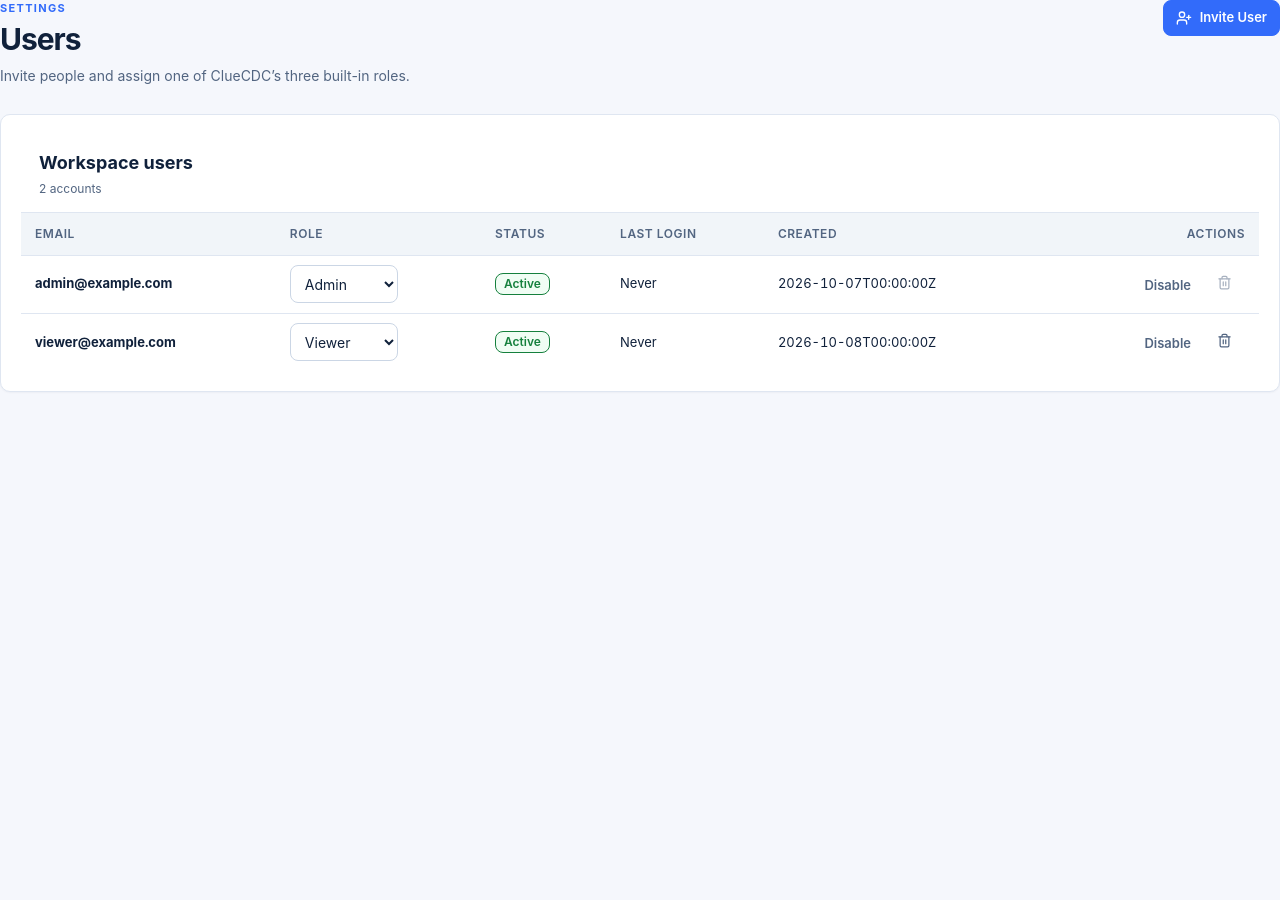
Test: lists users and creates a copyable invite link
The width and height of the screenshot is (1280, 900).
Expected: the text "admin@example.com" is shown, [35,275,172,291]
Click the button "Invite User": (1221, 18) [1163,0,1279,36]
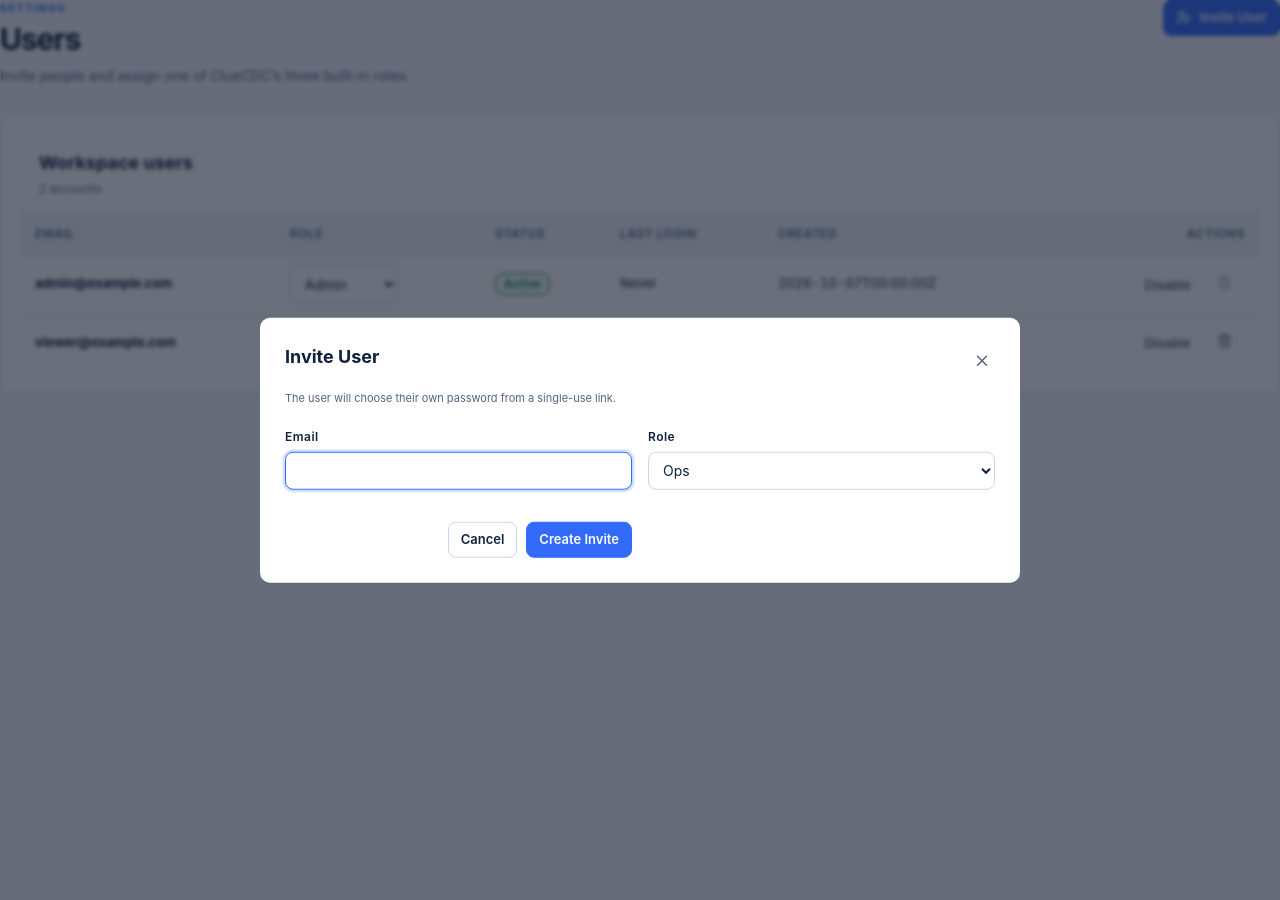
In the field labelled "Email": (458, 470) [285,451,632,489], type "ops@example.com"
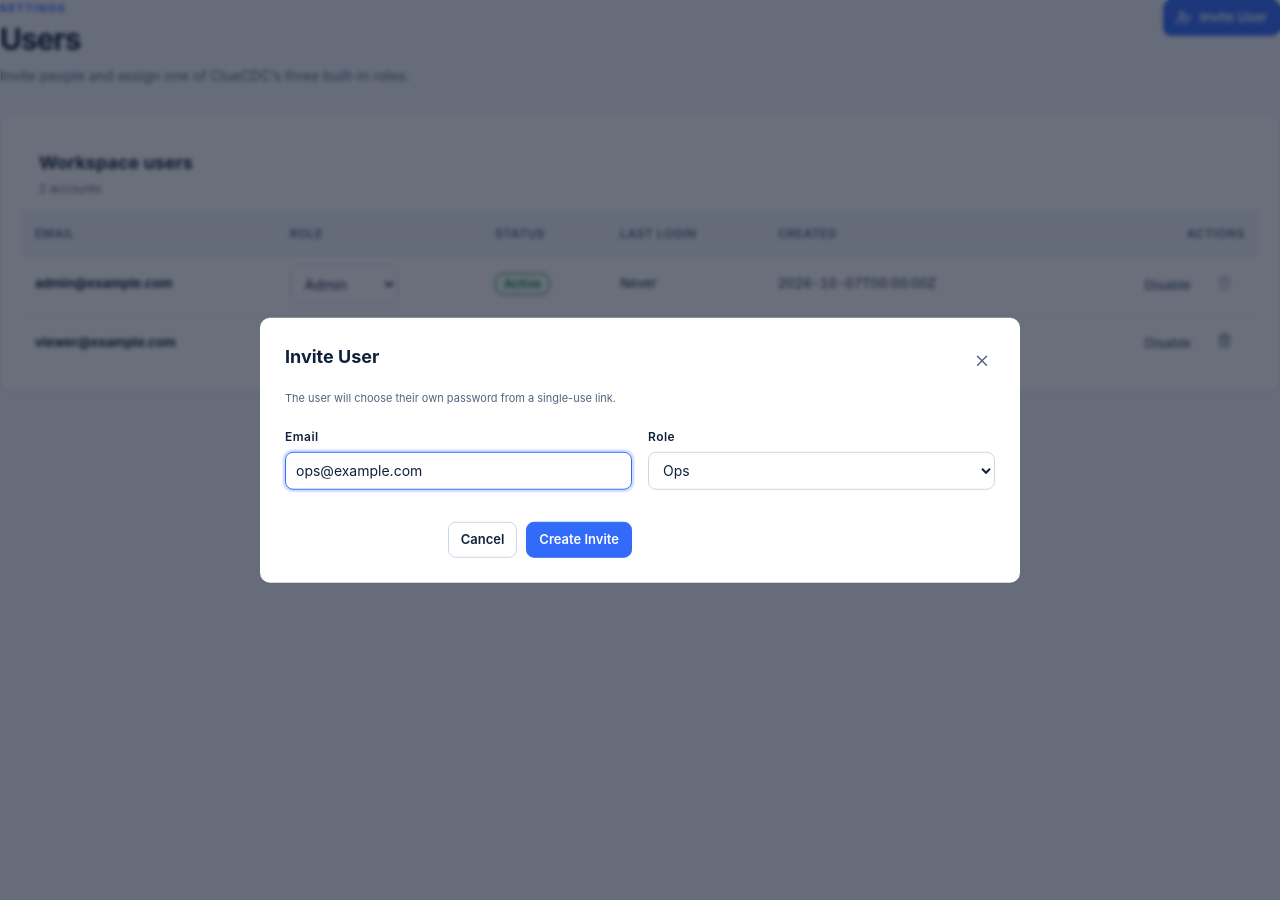
Click the button "Create Invite": (579, 539) [526,521,632,557]
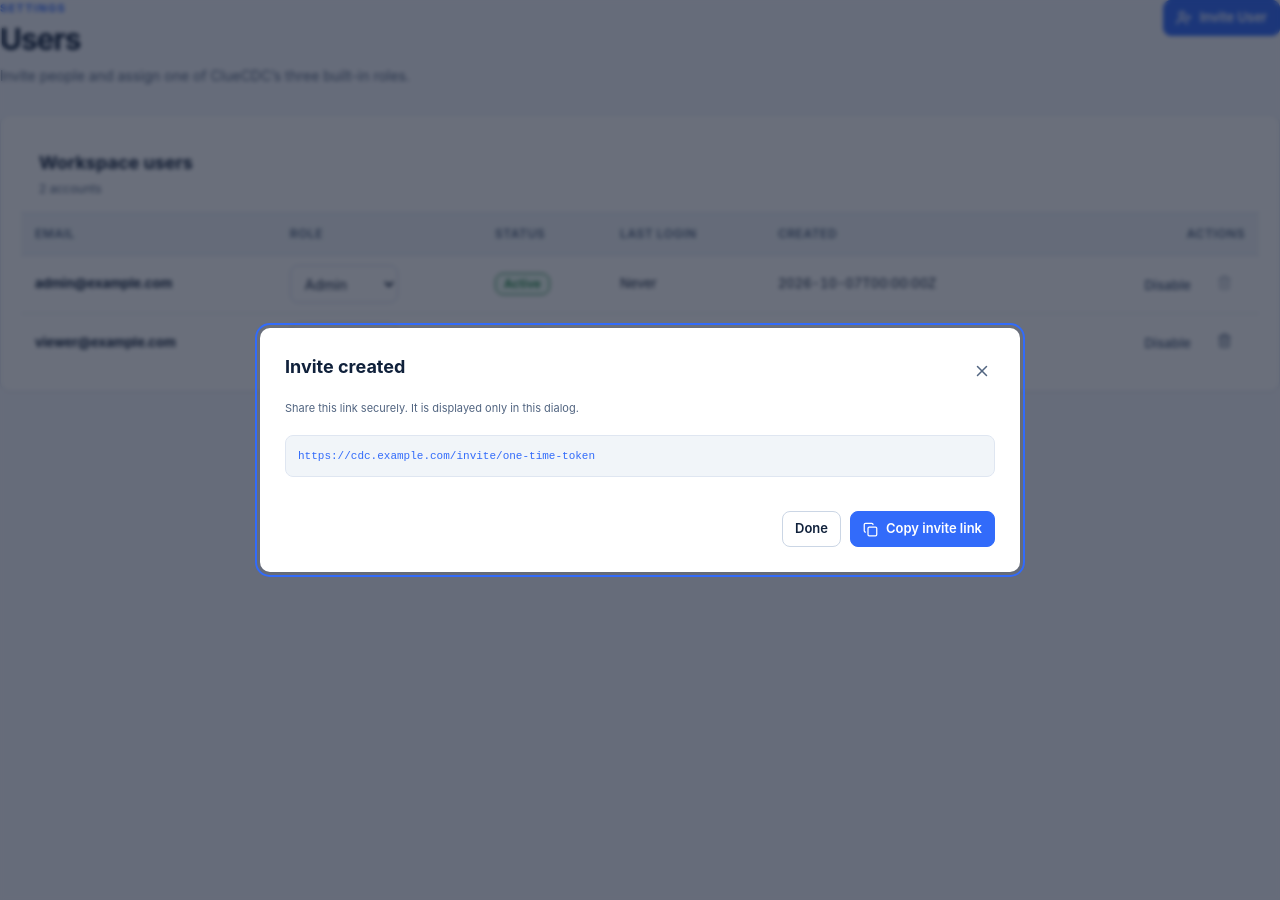
Expected: the text "https://cdc.example.com/invite/one-time-token" is shown, [285,434,995,477]
